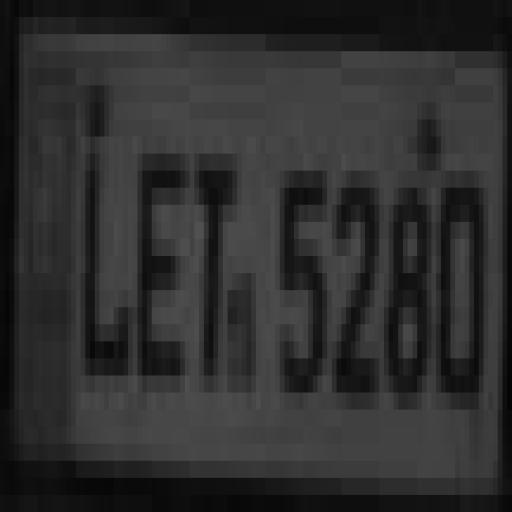0: (434, 157, 484, 428)
2: (331, 169, 381, 410)
5: (277, 162, 328, 406)
8: (387, 169, 430, 422)
E: (137, 132, 189, 385)
L: (81, 128, 132, 386)
T: (194, 144, 237, 394)
